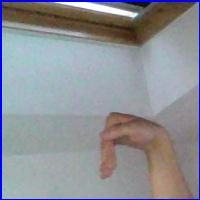del: (93, 107, 172, 187)
